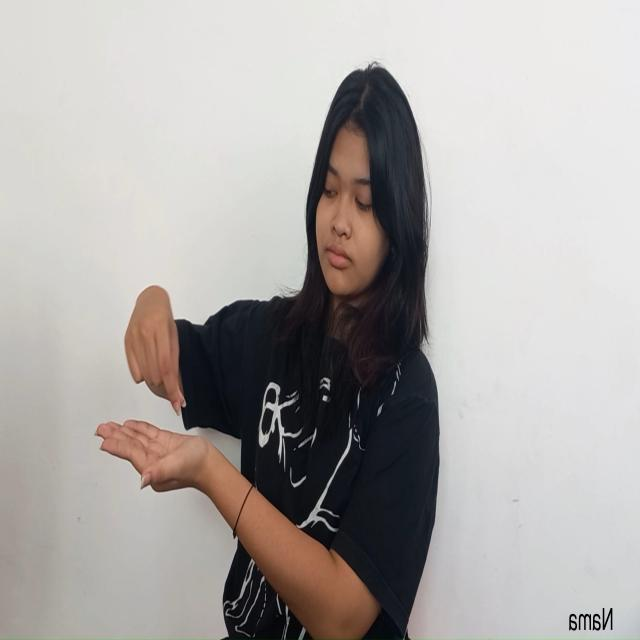Nama -BISINDO-: (93, 284, 209, 495)
